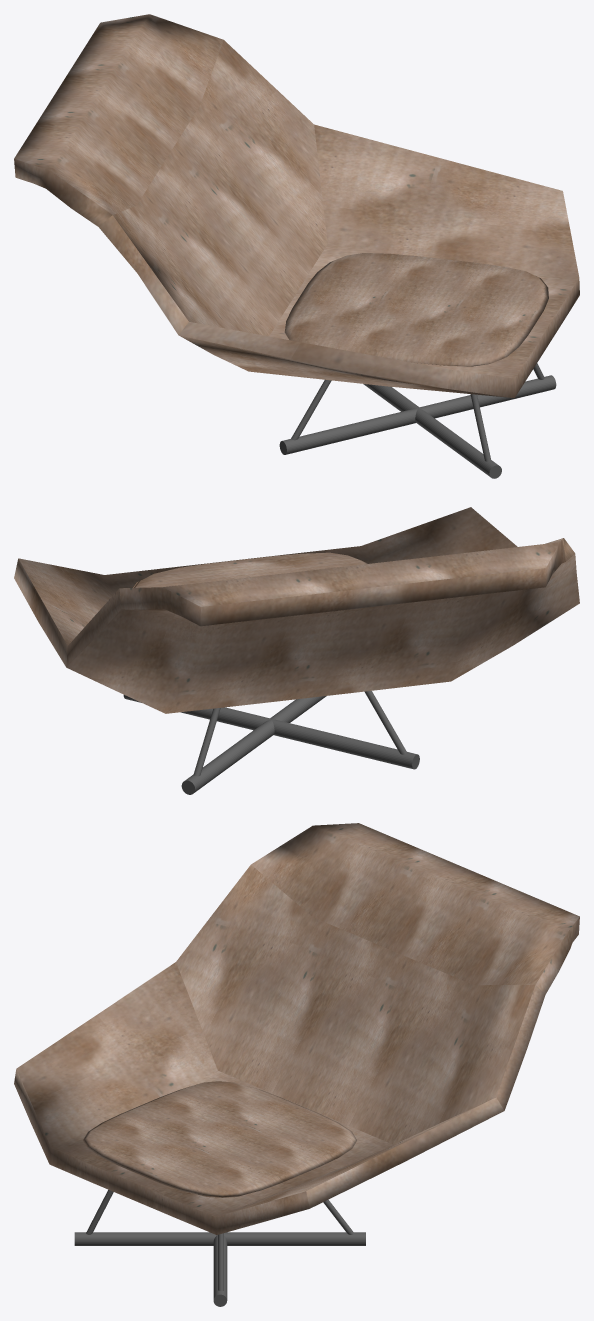
Rendered from loungechairfinalblend.fbx.
3 renders of one model, top to bottom at view 1: azimuth 30°, elevation 25°; view 2: azimuth 150°, elevation 25°; view 3: azimuth 270°, elevation 25°, orthographic. The views are drawn at different scales.
Parts seen in each view (by area): view 1: Cylinder.004; view 2: Cylinder.004; view 3: Cylinder.004.
Part boxes in pixels (bbox=[...]): Cylinder.004: bbox=[14, 14, 579, 478]; Cylinder.004: bbox=[14, 507, 579, 794]; Cylinder.004: bbox=[14, 823, 579, 1306].
Size of the model in its own units: 641 by 343 by 641.
